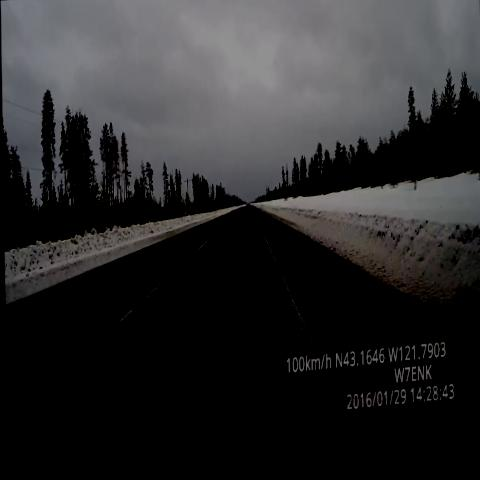pothole: (68, 367, 131, 440), (245, 221, 259, 244)
